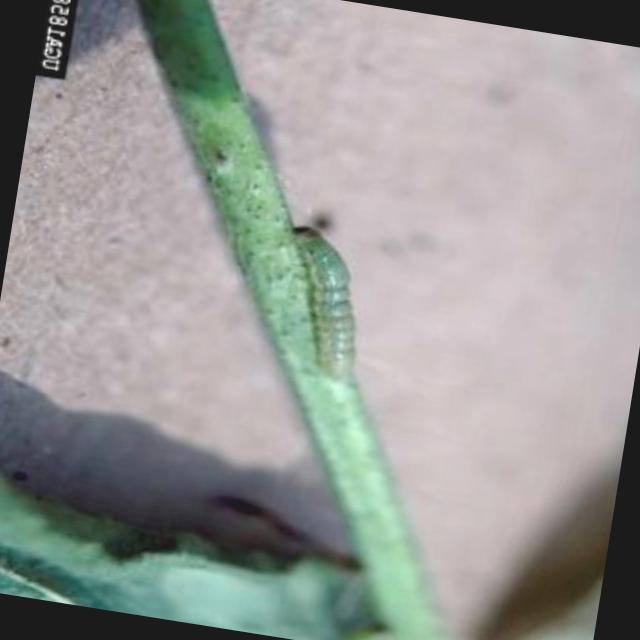Beet armyworm: (228, 200, 402, 424)
